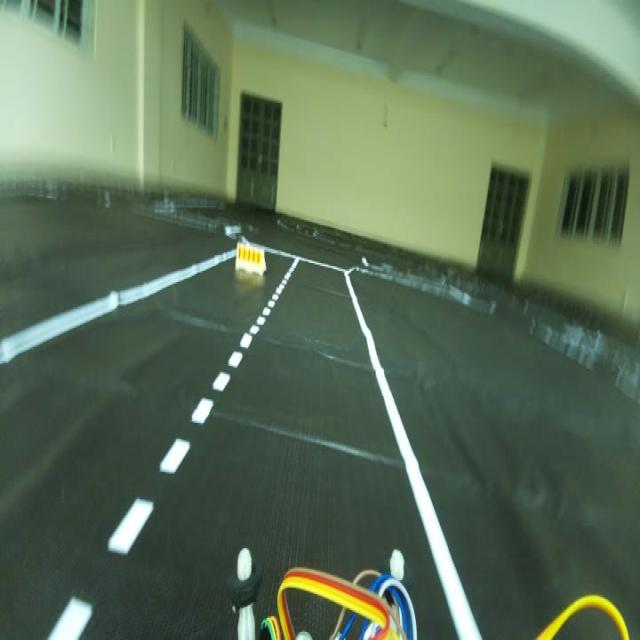roadblock: (230, 236, 272, 280)
